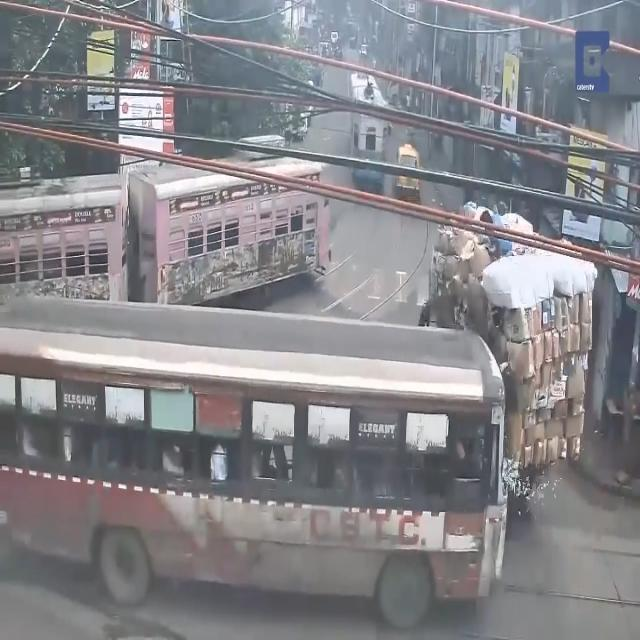accident: (405, 165, 598, 631)
